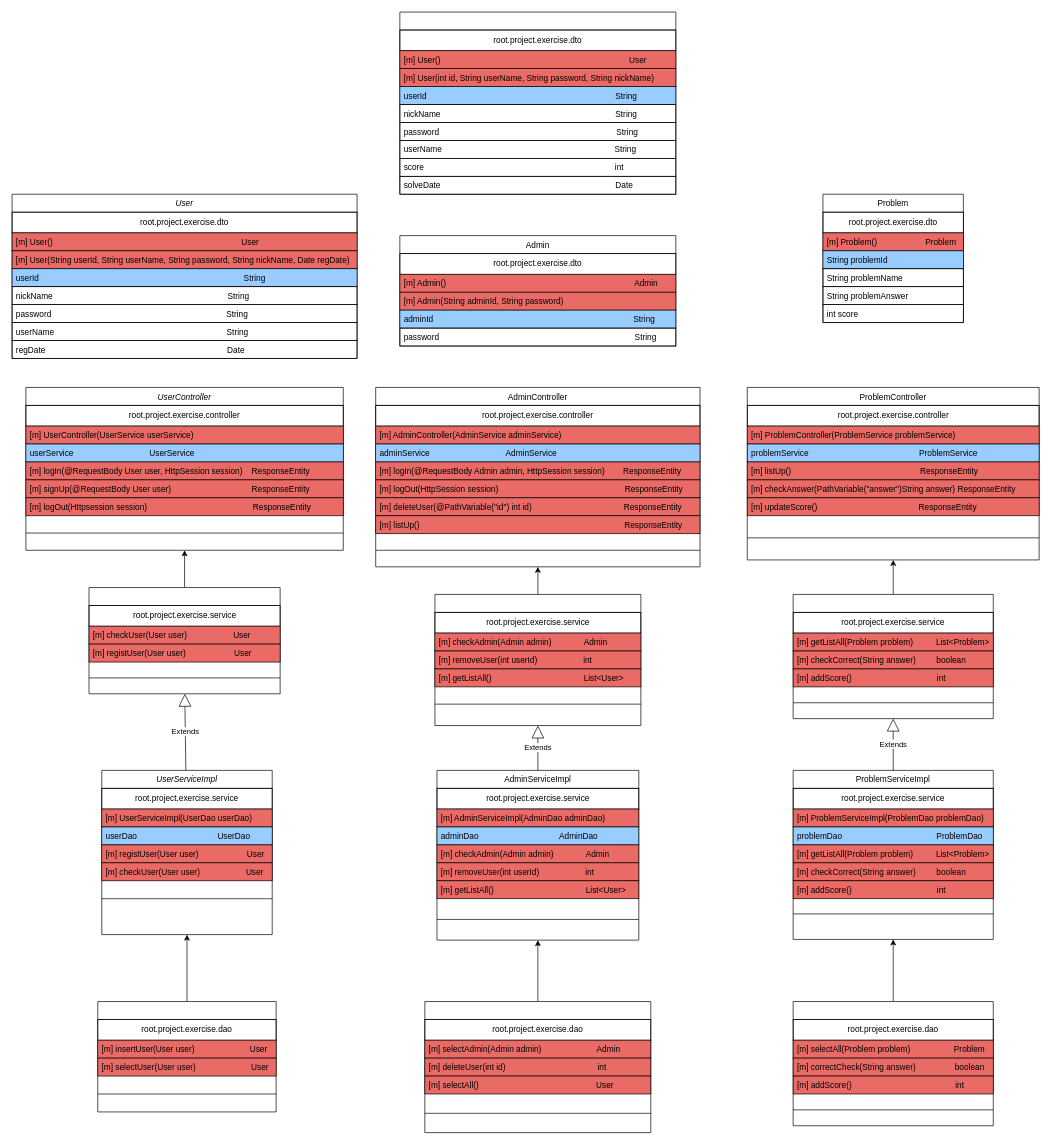
Some shapes in this 1052 by 1145 pixel diagram are drawn without their labels. Each missing label, with the box of its shape:
AdminDao [Interface]: (424, 1001, 651, 1133)
AdminService [Interface]: (434, 594, 641, 726)
ProblemDao: (792, 1001, 993, 1126)
ProblemService [Interface]: (792, 594, 993, 719)
UserDao [Interface]: (97, 1001, 276, 1112)
UserData: (399, 11, 676, 194)
UserService [Interface]: (88, 587, 280, 694)
